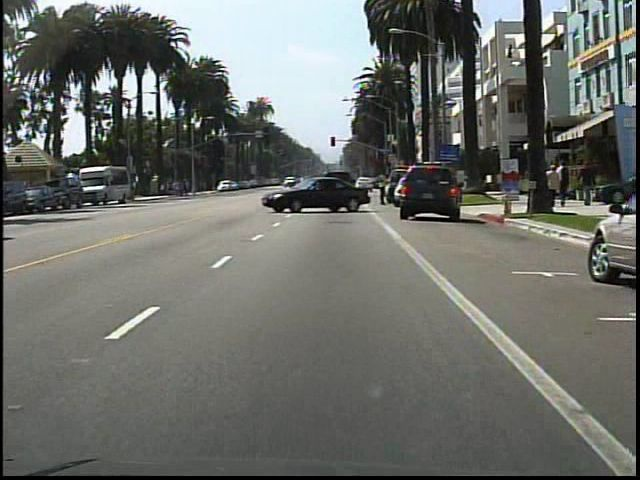person: (577, 155, 599, 207), (556, 159, 571, 212), (376, 170, 393, 210), (548, 164, 559, 211)
